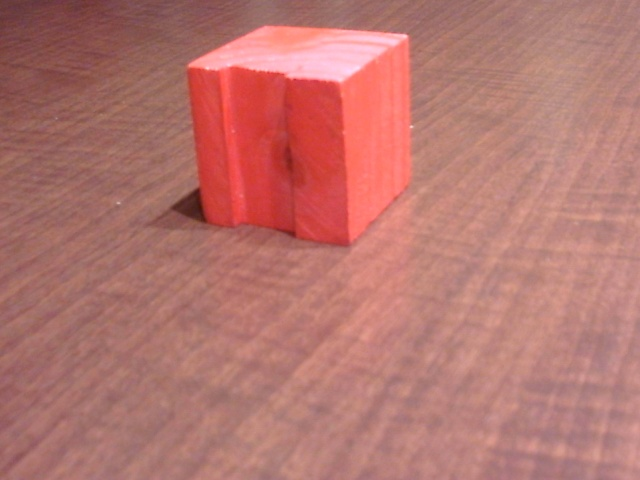RedBlock: (190, 60, 385, 243)
